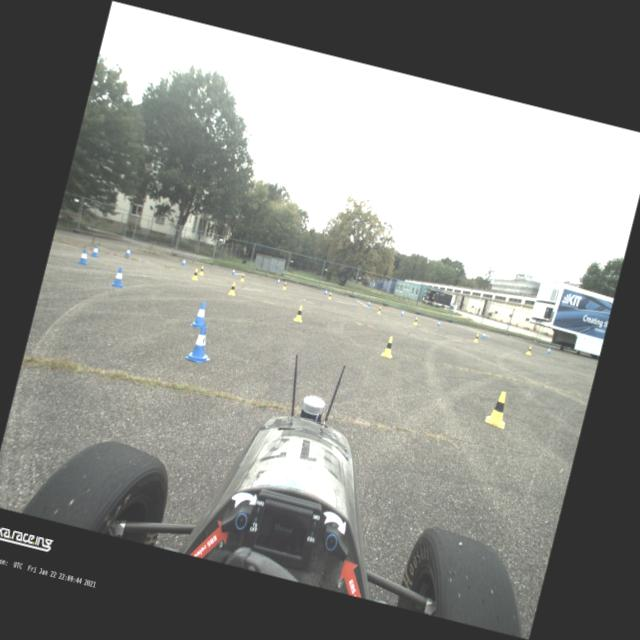blue_cone: (184, 320, 218, 366), (188, 299, 211, 330), (110, 264, 129, 288), (76, 247, 91, 265), (89, 244, 100, 258), (124, 246, 132, 258), (181, 257, 187, 266), (546, 346, 552, 354), (481, 331, 487, 338), (231, 267, 236, 275), (436, 318, 441, 326), (323, 288, 328, 295), (366, 299, 371, 306), (400, 308, 404, 316), (276, 278, 280, 284)
yellow_cone: (483, 388, 512, 429), (379, 334, 396, 358), (293, 304, 305, 322), (227, 280, 238, 296), (190, 267, 200, 282), (197, 264, 205, 276), (525, 344, 533, 356), (473, 332, 480, 343), (239, 272, 246, 282), (412, 316, 418, 326), (282, 281, 288, 290), (326, 291, 332, 300), (376, 306, 382, 314)
